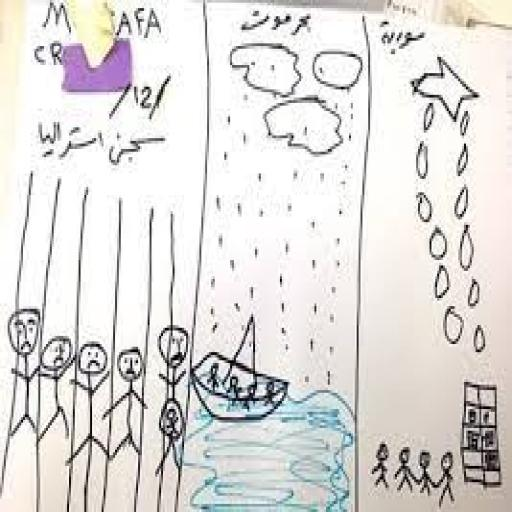person: (4, 285, 45, 454), (76, 339, 112, 482), (36, 331, 74, 448), (112, 342, 144, 471), (154, 390, 192, 484), (156, 323, 199, 395), (366, 433, 397, 498), (437, 444, 461, 512), (415, 445, 436, 509), (264, 365, 286, 424), (394, 442, 418, 496), (223, 368, 243, 424), (203, 362, 226, 403), (246, 374, 264, 422)
